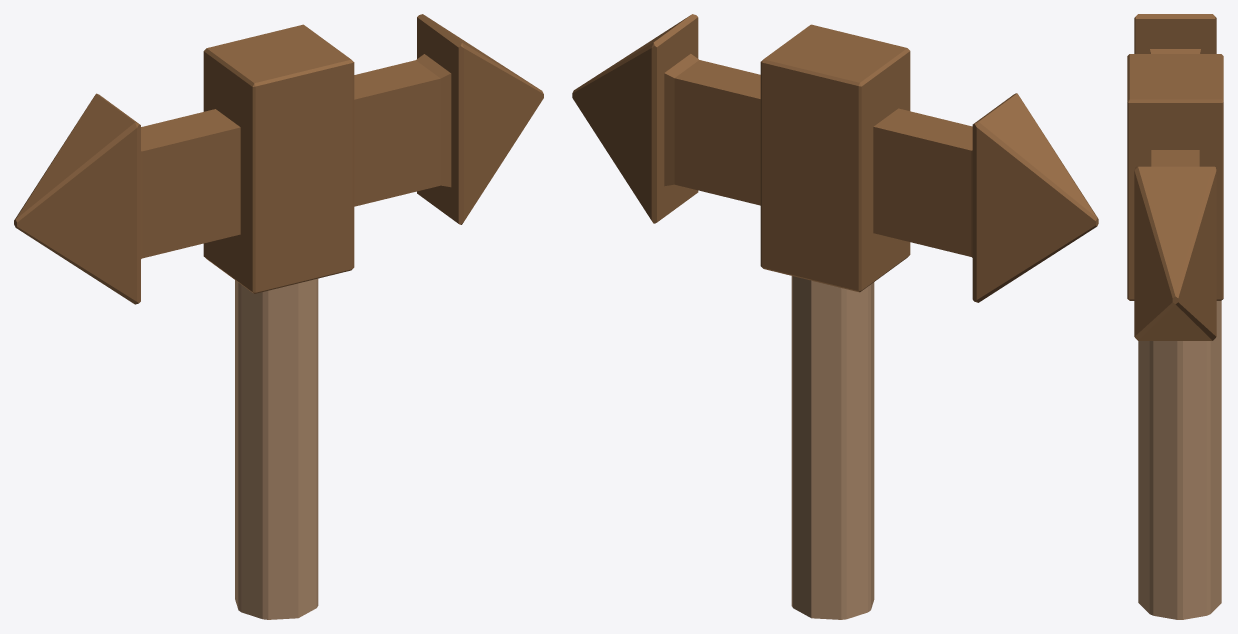
File: sign.fbx
3 renders of one model, left to right at view 1: azimuth 30°, elevation 25°; view 2: azimuth 150°, elevation 25°; view 3: azimuth 270°, elevation 25°, orthographic. The views are drawn at different scales.
Parts seen in each view (by area): view 1: sign; view 2: sign; view 3: sign.
Boxes of the visible parts, x1=… form: sign: x1=14, y1=14, x2=543, y2=619; sign: x1=572, y1=14, x2=1098, y2=619; sign: x1=1127, y1=14, x2=1223, y2=619.
Size of the model in its own units: 1397 by 1394 by 232.
1 material, 1 textured.
